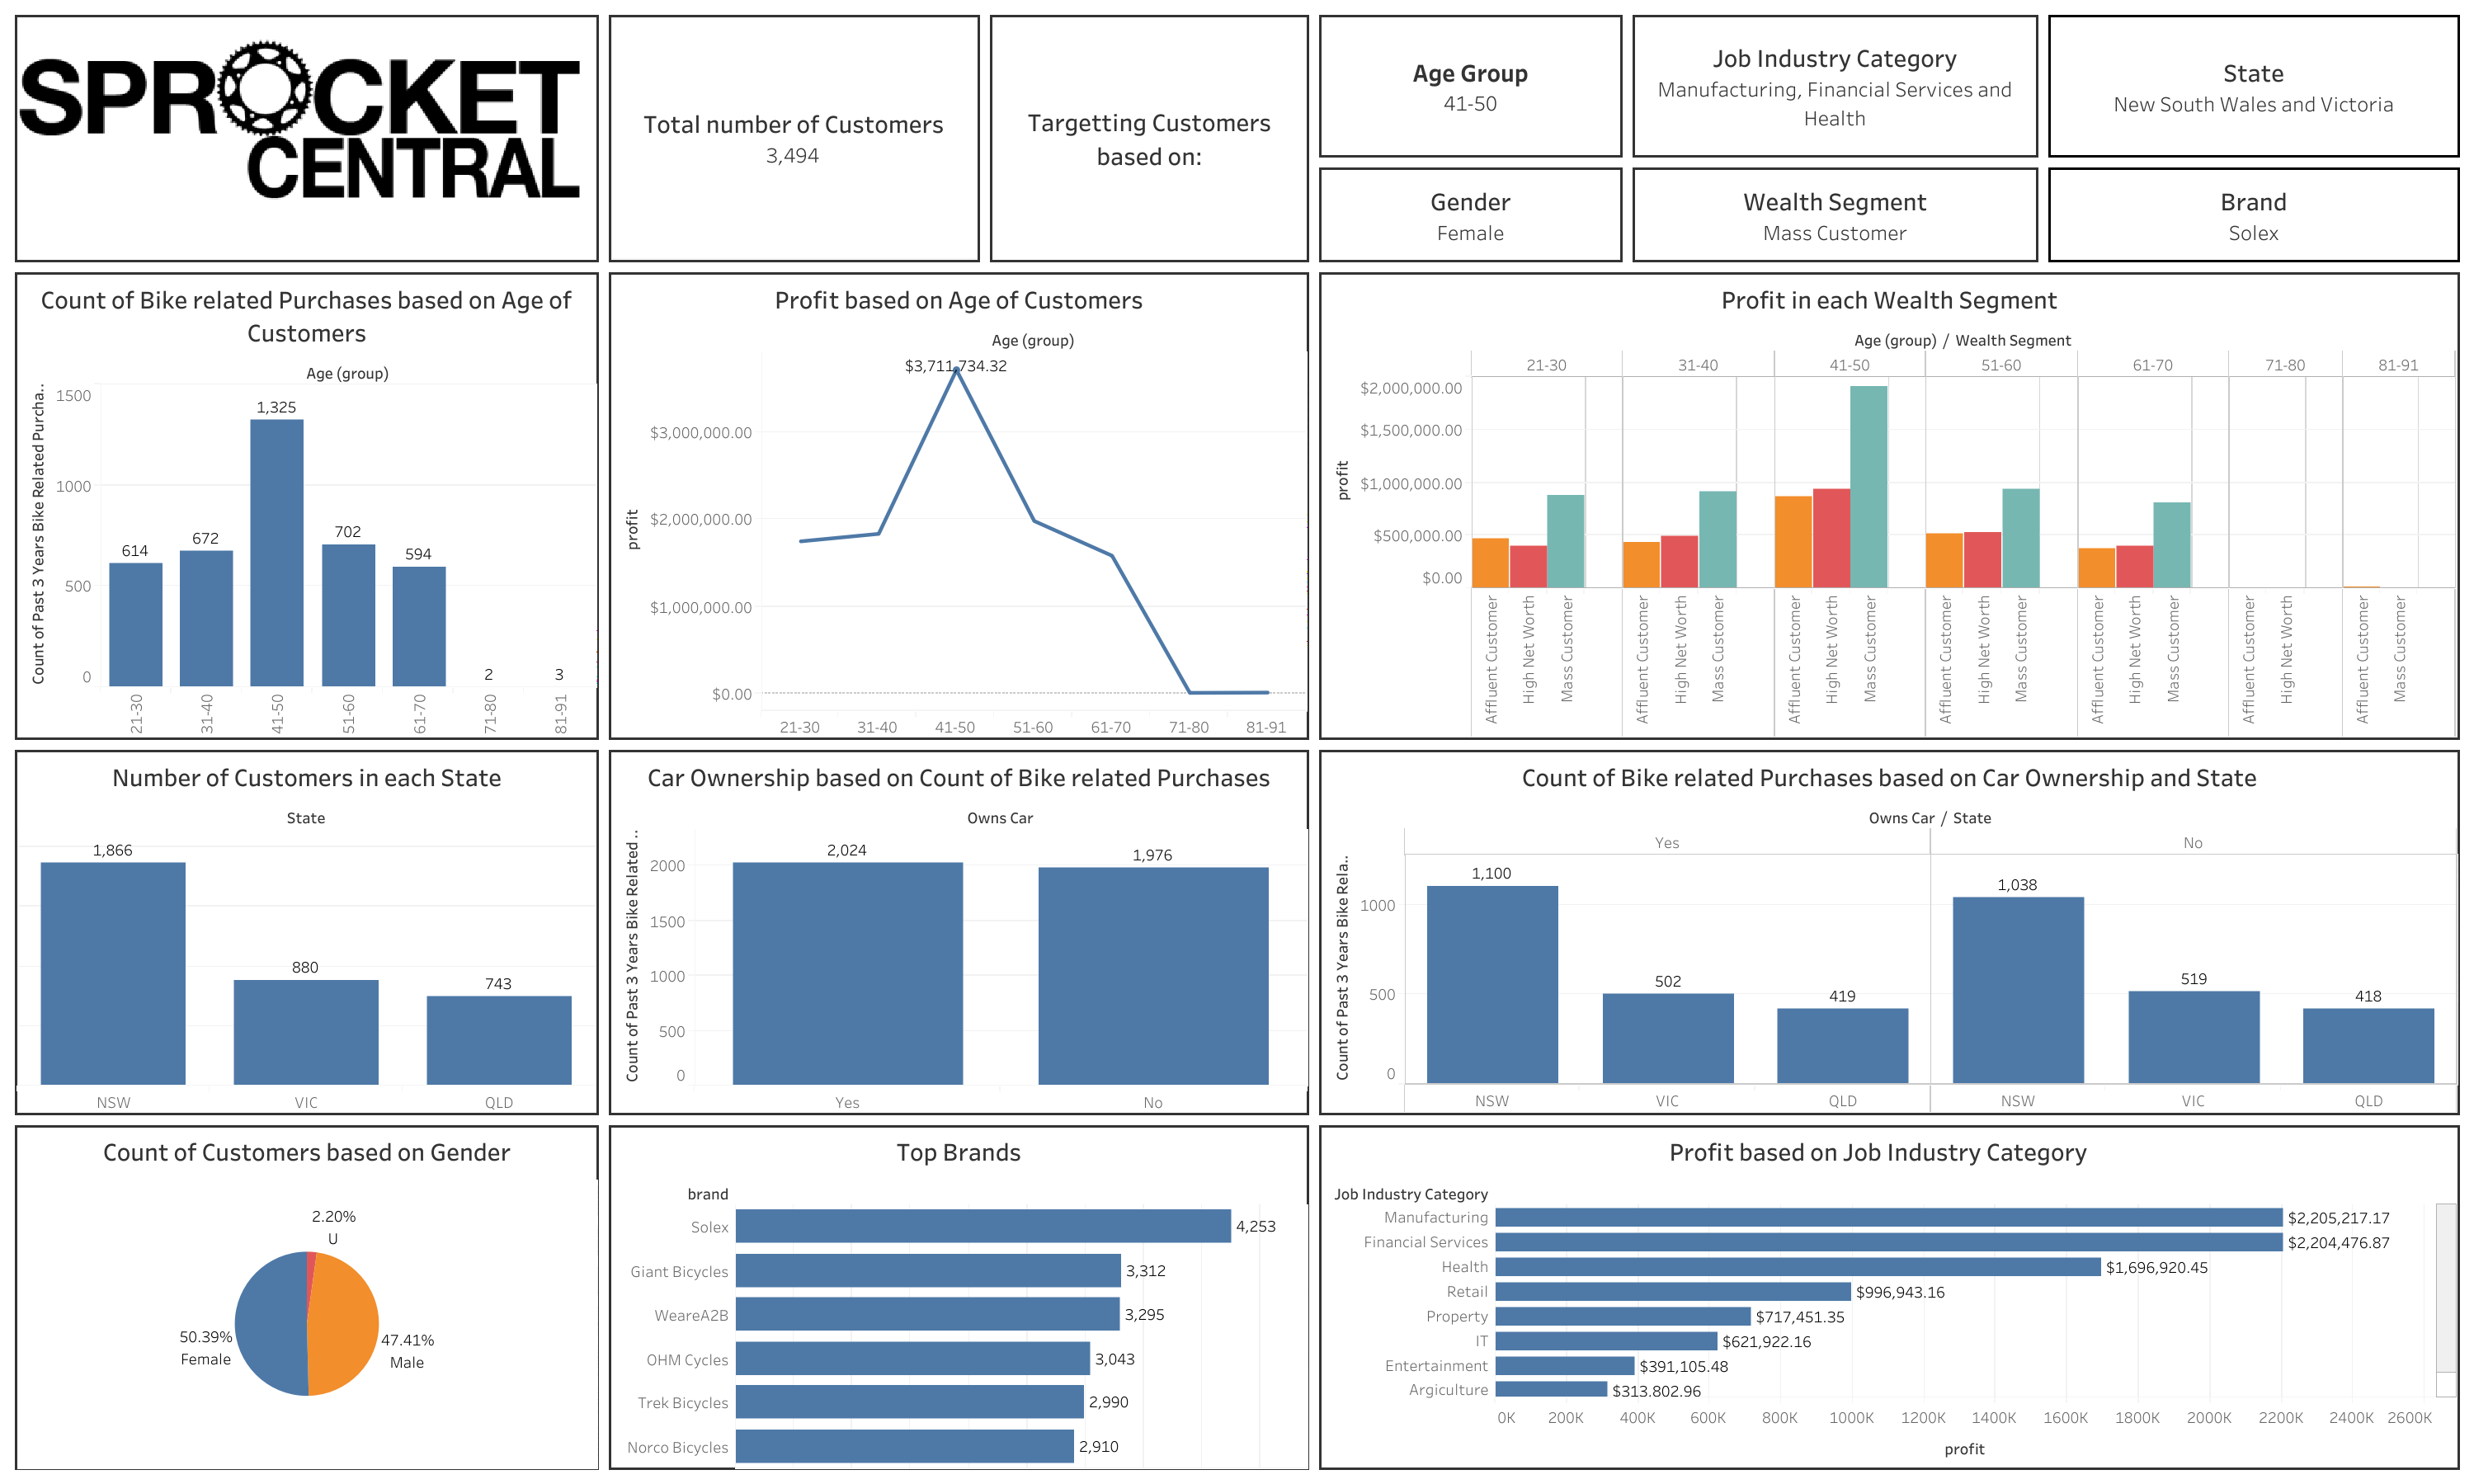

Layout of this report page (visuals, bound fields, positions):
{"tool":"tableau","page":{"name":"Dashboard 1","canvas":[2000,1200],"ordinal":0},"visuals":[{"type":"image","param":"Image/sprocket_central_logo.png","box":[8,8,480,219]},{"type":"worksheet","title":"Sheet 10","mark":"Automatic","box":[488,8,308,219]},{"type":"text","box":[796,8,266,219]},{"type":"text","box":[1062,8,253,123]},{"type":"text","box":[1315,8,336,123]},{"type":"text","box":[1651,8,341,123]},{"type":"text","box":[1062,131,253,96]},{"type":"text","box":[1315,131,336,96]},{"type":"text","box":[1651,131,341,96]},{"type":"worksheet","title":"Sheet 6","mark":"Automatic","rows":["past_3_years_bike_related_purchases"],"box":[8,227,480,406.7]},{"type":"worksheet","title":"Sheet 9","mark":"Line","rows":["profit"],"box":[488,227,574,406.7]},{"type":"worksheet","title":"Sheet 3","mark":"Automatic","rows":["vtnone"],"cols":["wealth_segment"],"box":[1062,227,930,406.7]},{"type":"worksheet","title":"Sheet 4","mark":"Automatic","rows":["customer_id"],"cols":["state"],"box":[8,633.7,480,317]},{"type":"worksheet","title":"Sheet 5","mark":"Automatic","rows":["past_3_years_bike_related_purchases"],"cols":["owns_car"],"box":[488,633.7,574,317]},{"type":"worksheet","title":"Sheet 8","mark":"Automatic","rows":["past_3_years_bike_related_purchases"],"cols":["owns_car","state"],"box":[1062,633.7,930,317]},{"type":"worksheet","title":"sheet 2","mark":"Pie","box":[8,950.7,480,241.2]},{"type":"worksheet","title":"sheet 1","mark":"Automatic","rows":["brand"],"cols":["customer_id"],"box":[488,950.7,574,241.2]},{"type":"worksheet","title":"Sheet 7","mark":"Automatic","rows":["job_industry_category"],"cols":["profit"],"box":[1062,950.7,930,241.2]}]}

Visuals, with their boxes in screenshot pixels (x1, y1, x2, y2), scaled from the page's 2000x1200 canvas onto the 2474x1484 screenshot:
image: bbox=[10, 10, 604, 280]
"Sheet 10" worksheet: bbox=[604, 10, 985, 280]
text: bbox=[985, 10, 1313, 280]
text: bbox=[1313, 10, 1627, 162]
text: bbox=[1627, 10, 2043, 162]
text: bbox=[2043, 10, 2464, 162]
text: bbox=[1313, 162, 1627, 280]
text: bbox=[1627, 162, 2043, 280]
text: bbox=[2043, 162, 2464, 280]
"Sheet 6" worksheet: bbox=[10, 280, 604, 784]
"Sheet 9" worksheet (Line marks): bbox=[604, 280, 1313, 784]
"Sheet 3" worksheet: bbox=[1313, 280, 2464, 784]
"Sheet 4" worksheet: bbox=[10, 784, 604, 1175]
"Sheet 5" worksheet: bbox=[604, 784, 1313, 1175]
"Sheet 8" worksheet: bbox=[1313, 784, 2464, 1175]
"sheet 2" worksheet (Pie marks): bbox=[10, 1175, 604, 1474]
"sheet 1" worksheet: bbox=[604, 1175, 1313, 1474]
"Sheet 7" worksheet: bbox=[1313, 1175, 2464, 1474]
